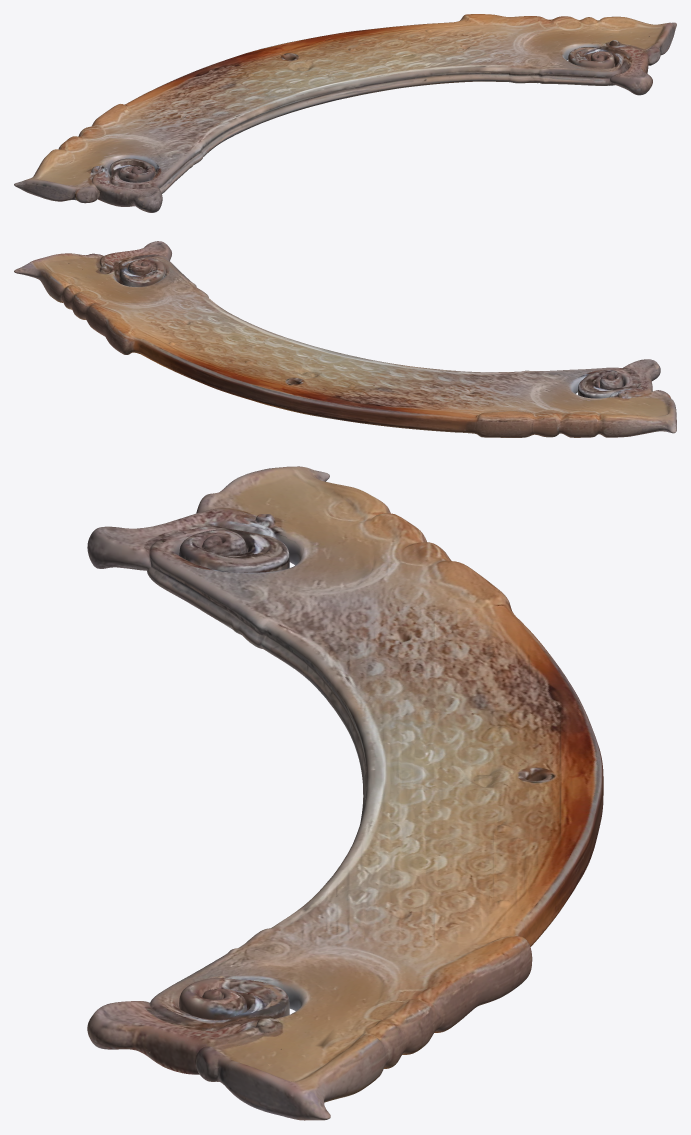
The model's file is double-dragon-heng-detail.glb.
3 views of the same model, one above another, from view 1: azimuth 30°, elevation 25°; view 2: azimuth 150°, elevation 25°; view 3: azimuth 270°, elevation 25° (orthographic). The views are drawn at different scales.
Visible parts, largest first — view 1: node_0; view 2: node_0; view 3: node_0.
Boxes of the visible parts, x1,y1,x2,y2 form: node_0: [14, 14, 676, 212]; node_0: [14, 241, 676, 437]; node_0: [87, 466, 603, 1120].
Bounding box in the file's own units: 1.2 × 0.0429 × 0.4055.
1 material, 1 textured.
